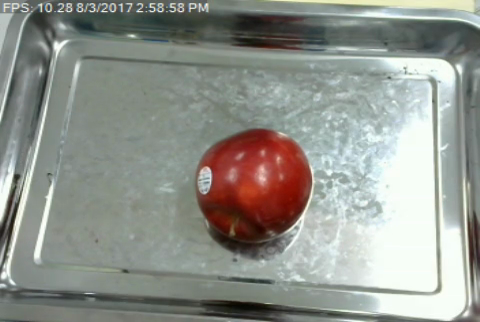Apple: (190, 125, 315, 248)
